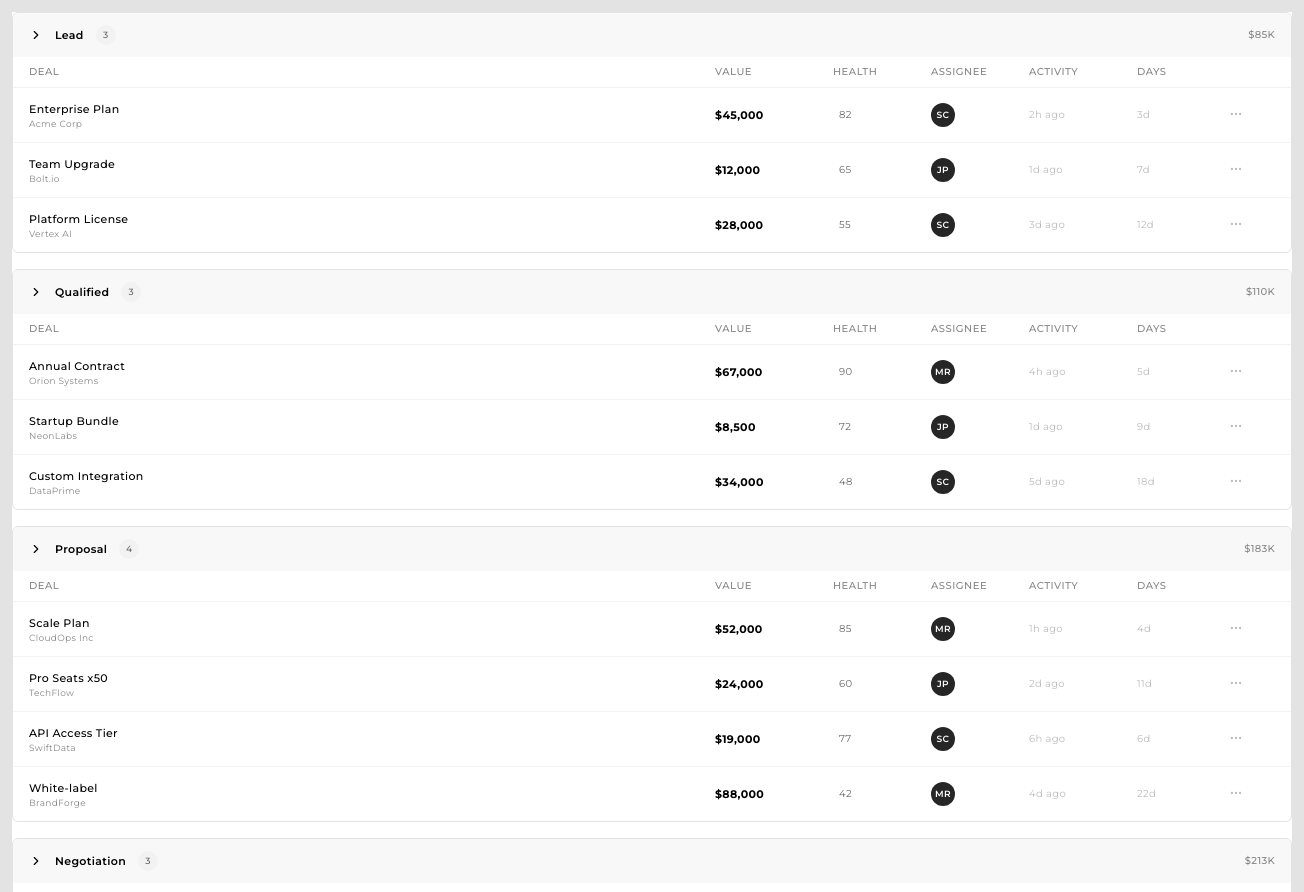
Scenario: PipelineListView › collapses a stage group when the header is clicked
Expected: the text "Enterprise Plan" is shown, x1=29 y1=102 x2=120 y2=116
Click the "Lead" stage header to collapse it
What coordinates should you click on to do the following:
click the button "Lead 3 $85K"
I would click on:
 (36, 35)
Its box is x1=13 y1=13 x2=1291 y2=57.
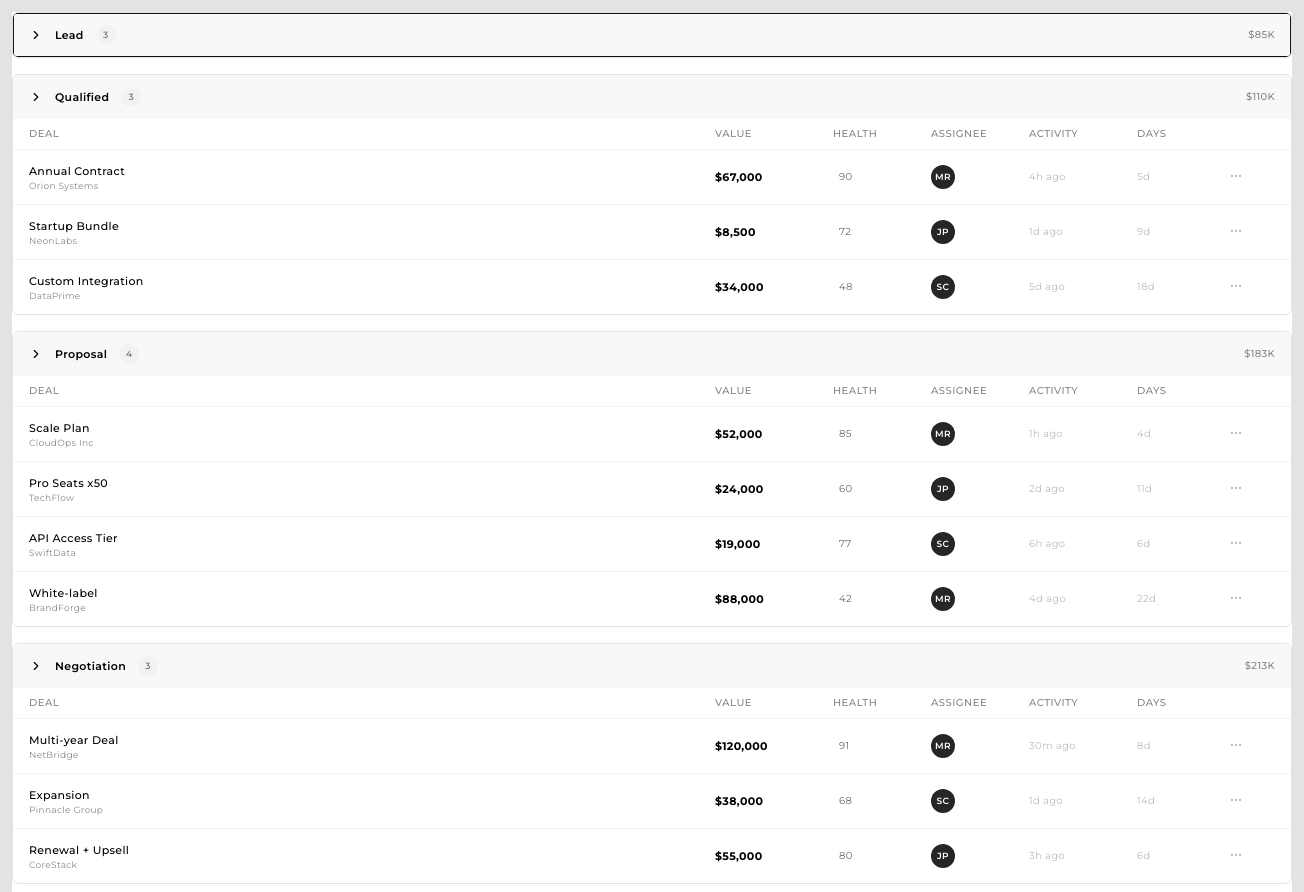
Expected: the text "Enterprise Plan" is gone
